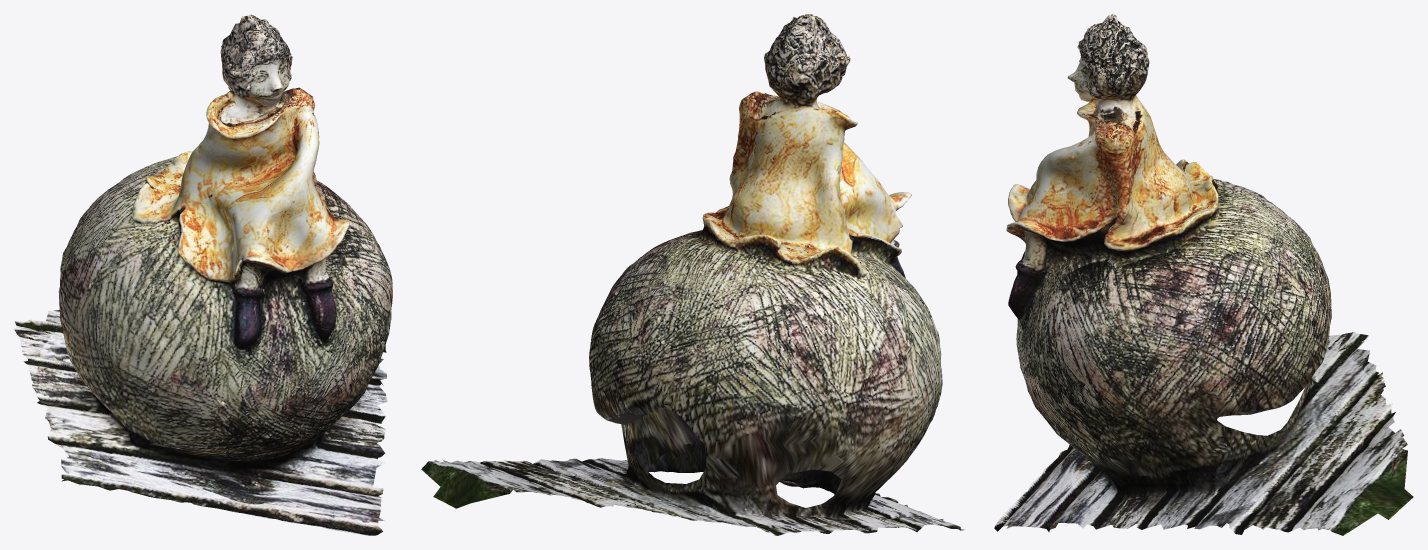
The model's file is goldenGirlOnBall.glb.
The picture shows the model from 3 angles, left to right: view 1: azimuth 30°, elevation 25°; view 2: azimuth 150°, elevation 25°; view 3: azimuth 270°, elevation 25°; orthographic projection. The views are drawn at different scales.
Visible parts, largest first — view 1: goldenGirlOnBall; view 2: goldenGirlOnBall; view 3: goldenGirlOnBall.
Boxes of the visible parts, x1=… form: goldenGirlOnBall: x1=14, y1=14, x2=392, y2=535; goldenGirlOnBall: x1=421, y1=14, x2=964, y2=535; goldenGirlOnBall: x1=994, y1=14, x2=1413, y2=535.
Bounding box in the file's own units: 12.41 × 13.86 × 10.98.
2 materials, 2 textured.
